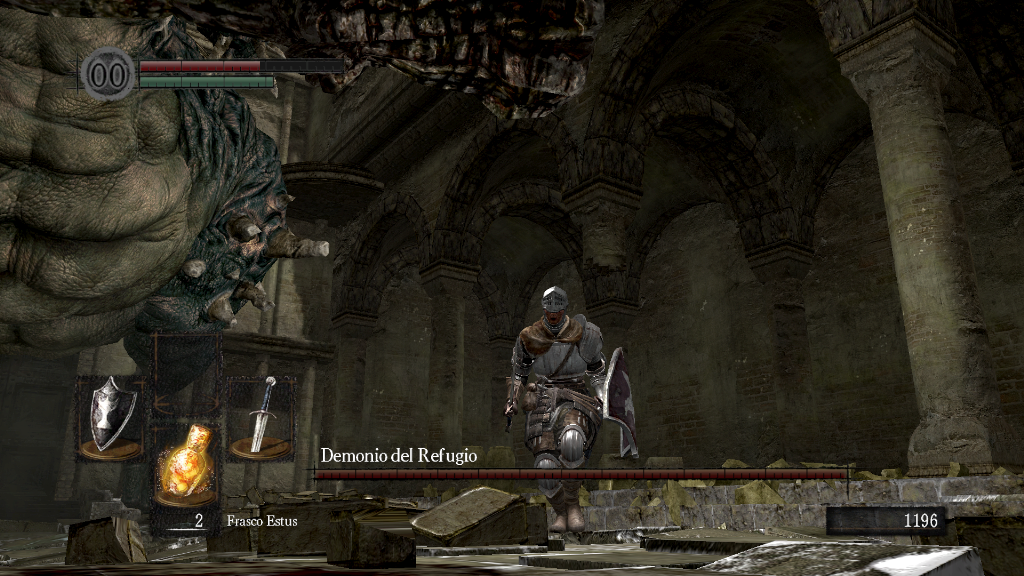asylumDemon: (1, 1, 598, 437)
bossHP: (314, 469, 847, 479)
health: (138, 58, 343, 71)
humanity: (80, 45, 136, 102)
player: (503, 285, 640, 534)
souls: (825, 506, 945, 536)
stamina: (138, 74, 274, 88)
